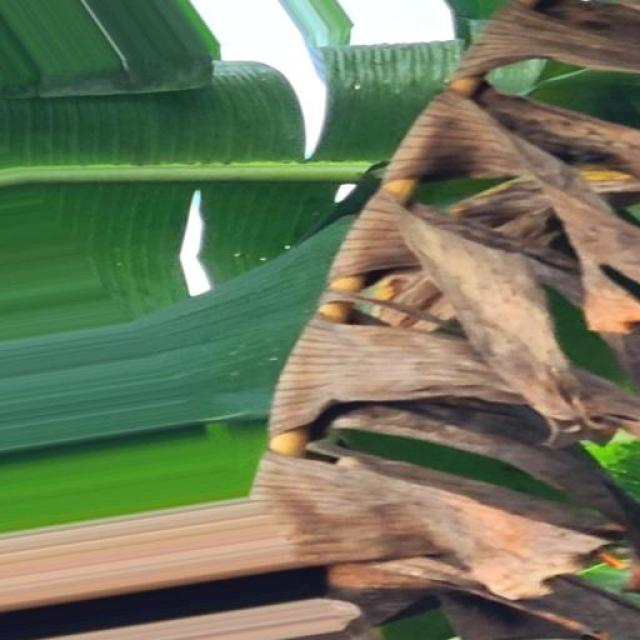Bract_mosaic_virus: (345, 0, 640, 640), (5, 492, 294, 639), (302, 234, 362, 640), (269, 341, 310, 640)
